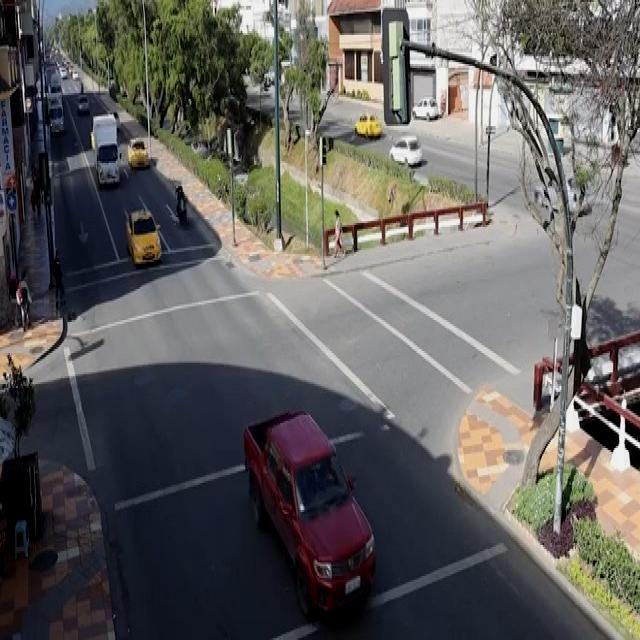CMT: (242, 409, 372, 609)
